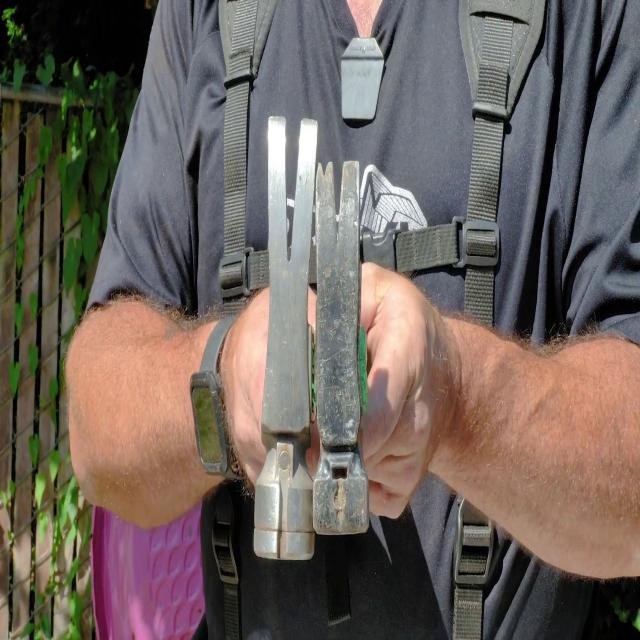hammer: (253, 113, 315, 562), (312, 161, 370, 537)
